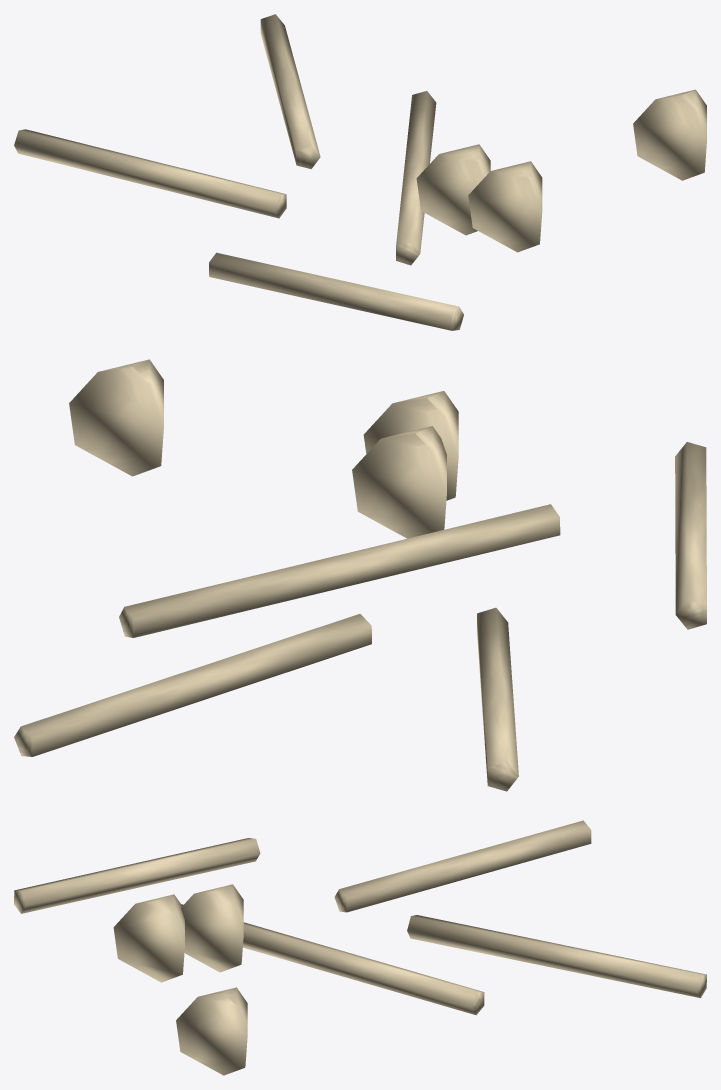
File: Bones_Scatter_1_LOD2.gltf
3 views of the same model, one above another, from view 1: azimuth 30°, elevation 25°; view 2: azimuth 150°, elevation 25°; view 3: azimuth 270°, elevation 25° (orthographic). The views are drawn at different scales.
Visible parts, largest first — view 1: Bones_Scatter_1_LOD2; view 2: Bones_Scatter_1_LOD2; view 3: Bones_Scatter_1_LOD2.
Part boxes in pixels (x1,y1,x2,y2): Bones_Scatter_1_LOD2: [14, 14, 706, 330]; Bones_Scatter_1_LOD2: [14, 359, 706, 791]; Bones_Scatter_1_LOD2: [14, 820, 706, 1075].
Size of the model in its own units: 1.34 by 0.21 by 1.6.
Materials: 1 (1 with a texture image).
